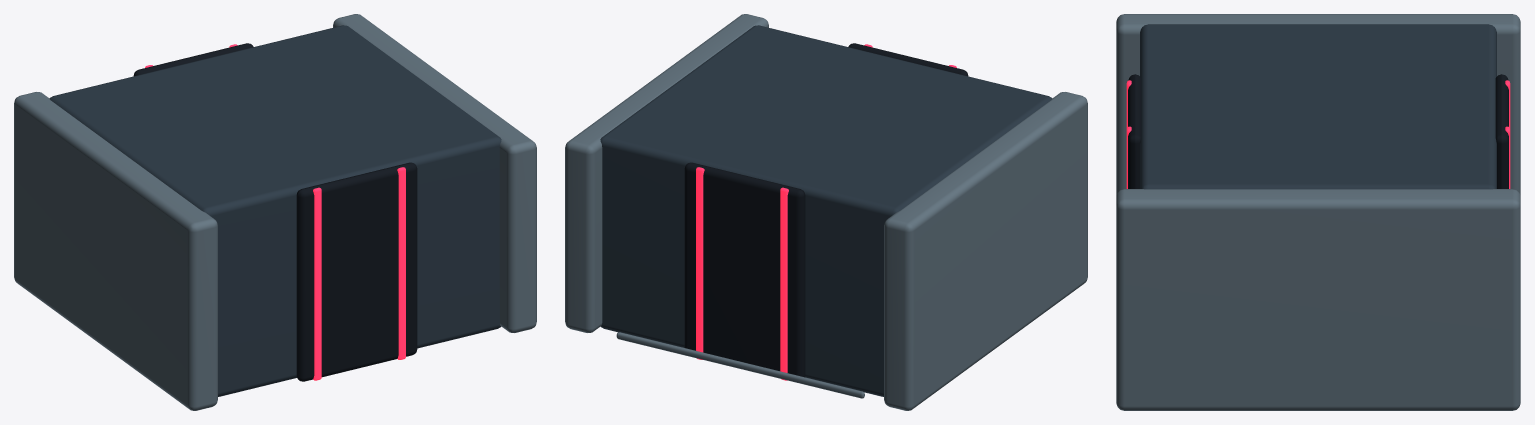
The model's file is watcher_shaft.glb.
3 renders of one model, left to right at view 1: azimuth 30°, elevation 25°; view 2: azimuth 150°, elevation 25°; view 3: azimuth 270°, elevation 25°, orthographic. The views are drawn at different scales.
Parts seen in each view (by area): view 1: Central load spine, Armour rib, Inset conduit.001, Armour rib.001, Ruby conduit.002, Ruby conduit.003, Inset conduit; view 2: Central load spine, Armour rib, Inset conduit, Armour rib.001, Panel seam, Ruby conduit, Ruby conduit.001, Inset conduit.001; view 3: Armour rib.001, Central load spine, Armour rib, Inset conduit, Inset conduit.001.
Boxes of the visible parts, box(x1,y1,x2,y2) form: Central load spine: box(49, 25, 501, 396); Armour rib: box(14, 92, 217, 410); Inset conduit.001: box(296, 162, 417, 381); Armour rib.001: box(333, 14, 536, 332); Ruby conduit.002: box(313, 187, 321, 380); Ruby conduit.003: box(397, 167, 405, 359); Inset conduit: box(133, 43, 253, 76); Central load spine: box(600, 25, 1052, 396); Armour rib: box(884, 92, 1087, 410); Inset conduit: box(684, 162, 805, 377); Armour rib.001: box(565, 14, 768, 332); Panel seam: box(616, 332, 864, 398); Ruby conduit: box(780, 187, 788, 380); Ruby conduit.001: box(696, 167, 704, 359); Inset conduit.001: box(848, 43, 968, 76); Armour rib.001: box(1116, 189, 1520, 410); Central load spine: box(1140, 24, 1496, 189); Armour rib: box(1116, 14, 1520, 195); Inset conduit: box(1495, 74, 1508, 188); Inset conduit.001: box(1128, 74, 1141, 188).
Size of the model in its own units: 1.9 by 1 by 1.7.
